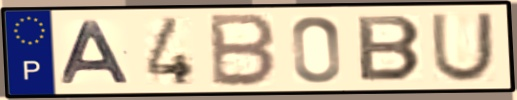0: (288, 13, 344, 85)
4: (143, 15, 198, 87)
A: (59, 18, 135, 86)
B: (209, 12, 280, 90), (354, 14, 426, 84)
U: (428, 11, 497, 85)
